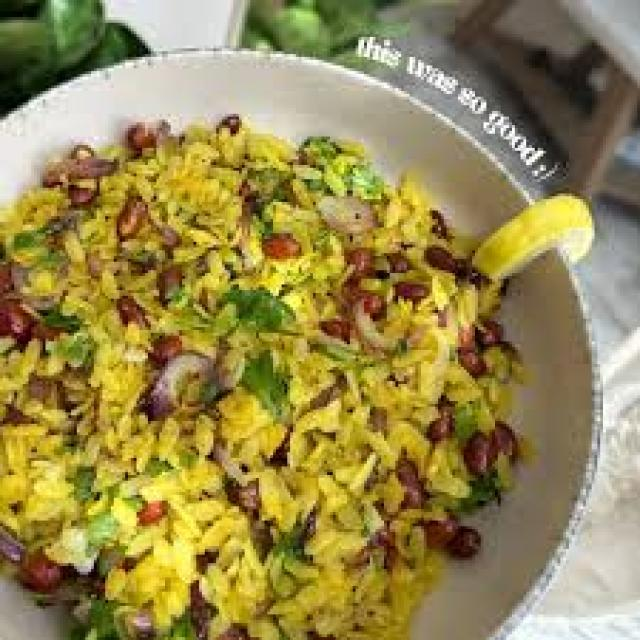POHA: (0, 117, 560, 637)
